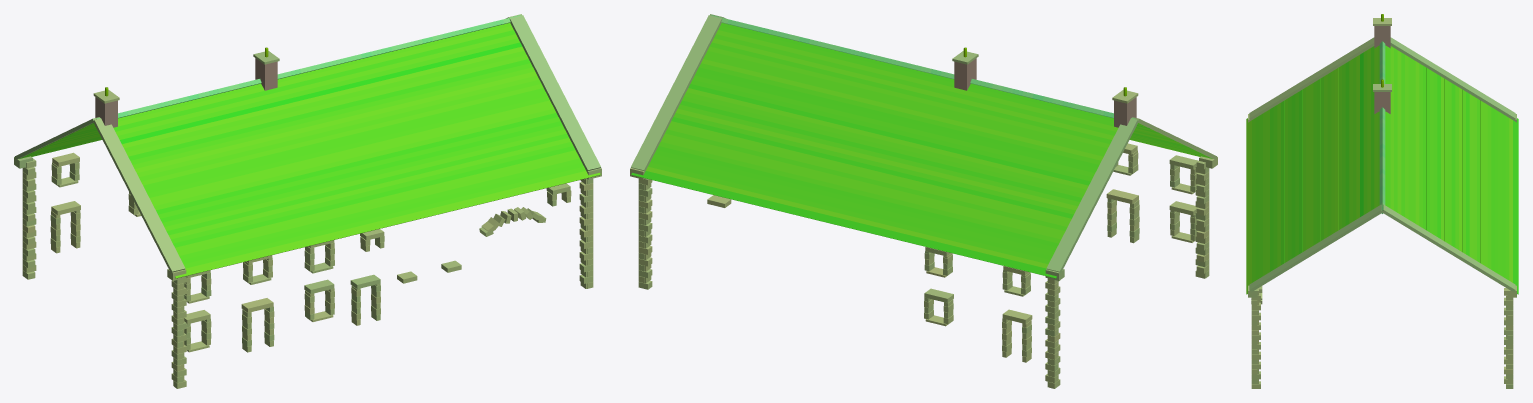
File: SM_Bld_093_Stone.glb
The picture shows the model from 3 angles, left to right: view 1: azimuth 30°, elevation 25°; view 2: azimuth 150°, elevation 25°; view 3: azimuth 270°, elevation 25°; orthographic projection. The views are drawn at different scales.
Parts seen in each view (by area): view 1: SM_Bld_093_Stone; view 2: SM_Bld_093_Stone; view 3: SM_Bld_093_Stone.
Boxes of the visible parts, <box> form: SM_Bld_093_Stone: <box>14,14,601,388</box>; SM_Bld_093_Stone: <box>630,14,1217,388</box>; SM_Bld_093_Stone: <box>1246,14,1518,388</box>.
Size of the model in its own units: 23.21 by 12.59 by 15.08.
